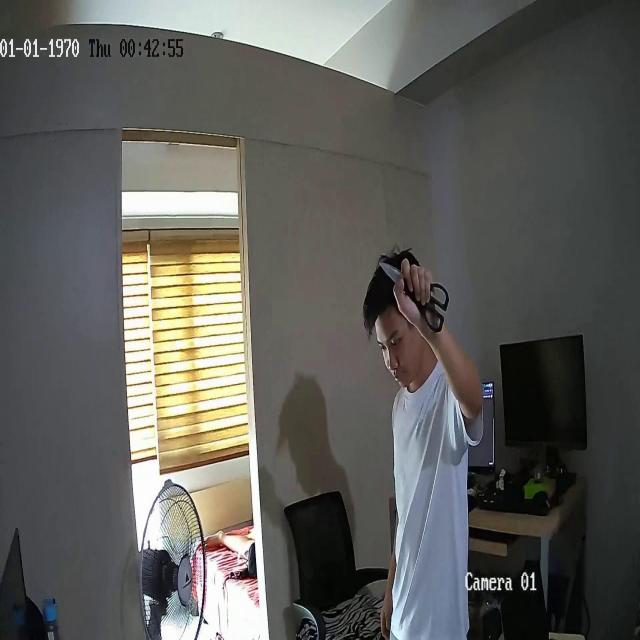scissor: (379, 262, 449, 333)
